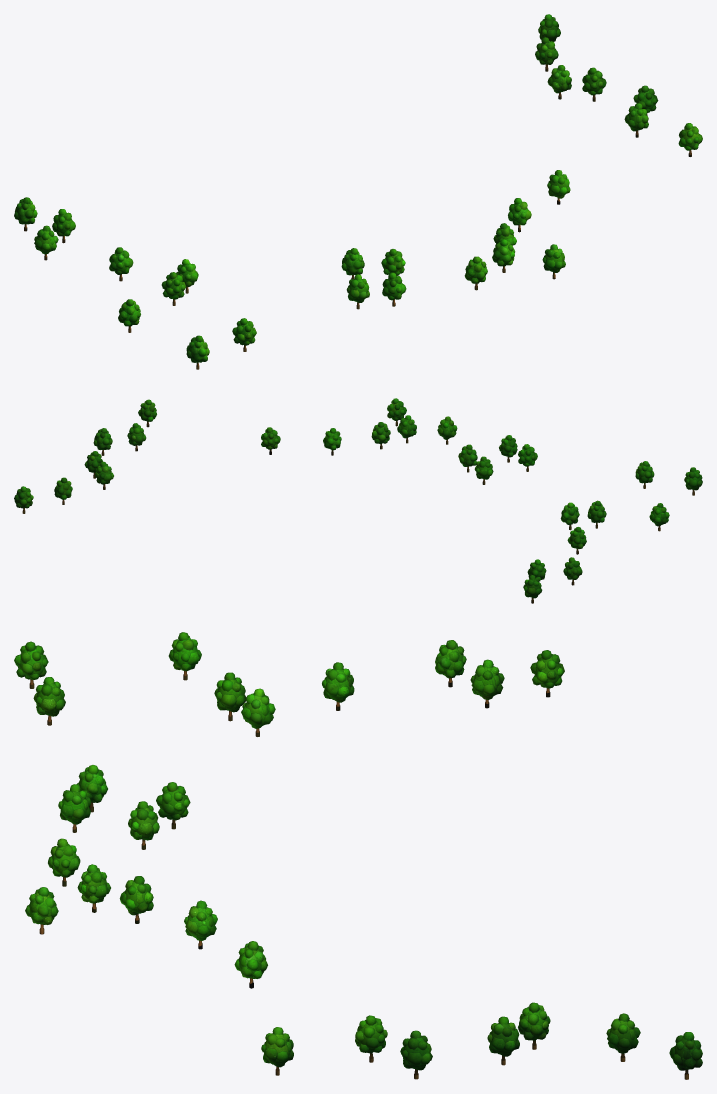
Rendered from Castle_Tree.obj.
The picture shows the model from 3 angles, top to bottom: view 1: azimuth 30°, elevation 25°; view 2: azimuth 150°, elevation 25°; view 3: azimuth 270°, elevation 25°; orthographic projection. The views are drawn at different scales.
Visible parts, largest first — view 1: no part large enough to name; view 2: Tree_023, Tree_010, Tree_001, Tree_024, Tree_003, Tree_004, Tree_016, Tree_005, Tree_002, Tree_009, Tree_007, Tree_008 (+9 smaller); view 3: Tree_009, Tree_016, Tree_002, Tree_005, Tree_013, Tree_017, Tree_023, Tree_022, Tree, Tree_015, Tree_006, Tree_020 (+14 smaller).
Part boxes in pixels (left/top/right/bottom): Tree_023: left=14, top=486, right=33, bottom=513; Tree_010: left=649, top=503, right=669, bottom=531; Tree_001: left=518, top=444, right=537, bottom=471; Tree_024: left=397, top=415, right=416, bottom=443; Tree_003: left=458, top=444, right=477, bottom=472; Tree_004: left=437, top=416, right=457, bottom=444; Tree_016: left=523, top=575, right=542, bottom=603; Tree_005: left=371, top=422, right=390, bottom=449; Tree_002: left=474, top=456, right=493, bottom=484; Tree_009: left=684, top=467, right=702, bottom=495; Tree_007: left=261, top=427, right=280, bottom=454; Tree_008: left=635, top=461, right=654, bottom=488; Tree_009: left=14, top=641, right=48, bottom=688; Tree_016: left=530, top=650, right=564, bottom=697; Tree_002: left=156, top=782, right=190, bottom=829; Tree_005: left=119, top=876, right=153, bottom=923; Tree_013: left=322, top=662, right=354, bottom=710; Tree_017: left=261, top=1027, right=293, bottom=1075; Tree_023: left=669, top=1032, right=702, bottom=1079; Tree_022: left=606, top=1013, right=640, bottom=1061; Tree: left=58, top=784, right=91, bottom=832; Tree_015: left=470, top=659, right=504, bottom=708; Tree_006: left=184, top=900, right=217, bottom=949; Tree_020: left=487, top=1016, right=519, bottom=1065.
Size of the model in its own units: 89.67 by 5.59 by 61.71.
